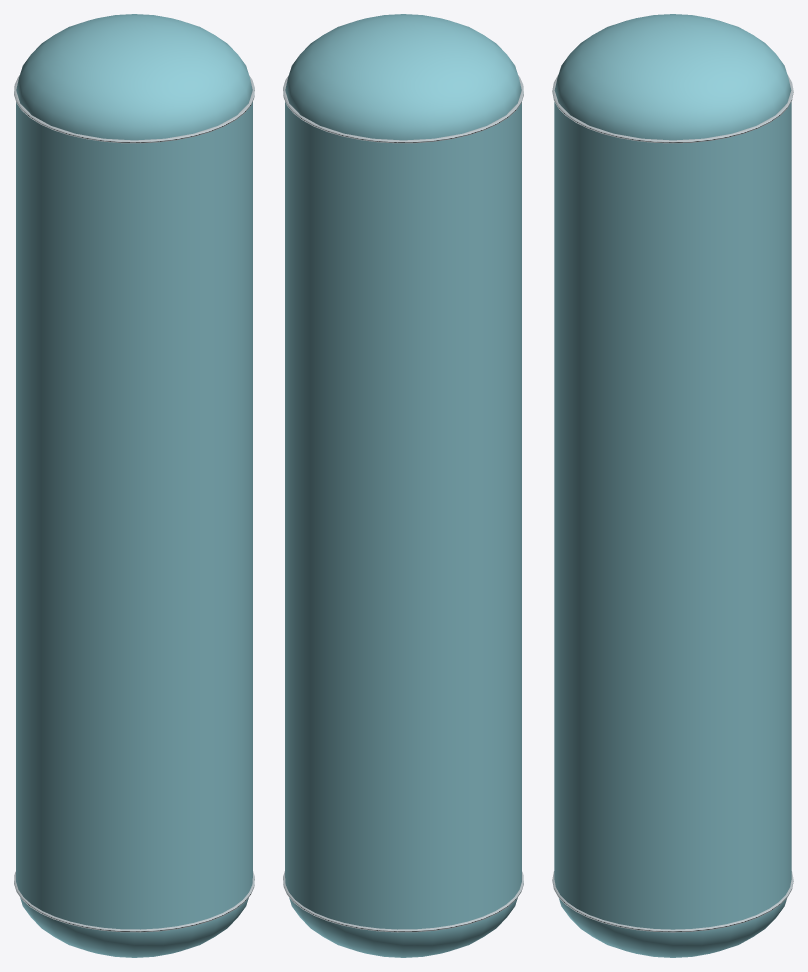
Rendered from sls_core_lh2_vessel.glb.
3 views of the same model, side by side, from view 1: azimuth 30°, elevation 25°; view 2: azimuth 150°, elevation 25°; view 3: azimuth 270°, elevation 25° (orthographic).
Parts seen in each view (by area): view 1: sls_corecutawaylh2mesh_Cutaway_liquid_hydrogen, sls_corecutawaylh2mesh_Satin_aluminum; view 2: sls_corecutawaylh2mesh_Cutaway_liquid_hydrogen, sls_corecutawaylh2mesh_Satin_aluminum; view 3: sls_corecutawaylh2mesh_Cutaway_liquid_hydrogen, sls_corecutawaylh2mesh_Satin_aluminum.
Part boxes in pixels (x1,y1,x2,y2): sls_corecutawaylh2mesh_Cutaway_liquid_hydrogen: (16,14,252,957); sls_corecutawaylh2mesh_Satin_aluminum: (14,75,254,932); sls_corecutawaylh2mesh_Cutaway_liquid_hydrogen: (285,14,521,957); sls_corecutawaylh2mesh_Satin_aluminum: (283,75,523,932); sls_corecutawaylh2mesh_Cutaway_liquid_hydrogen: (554,14,791,957); sls_corecutawaylh2mesh_Satin_aluminum: (552,75,793,932).
Bounding box in the file's own units: 8.1 × 33.6 × 8.1.
